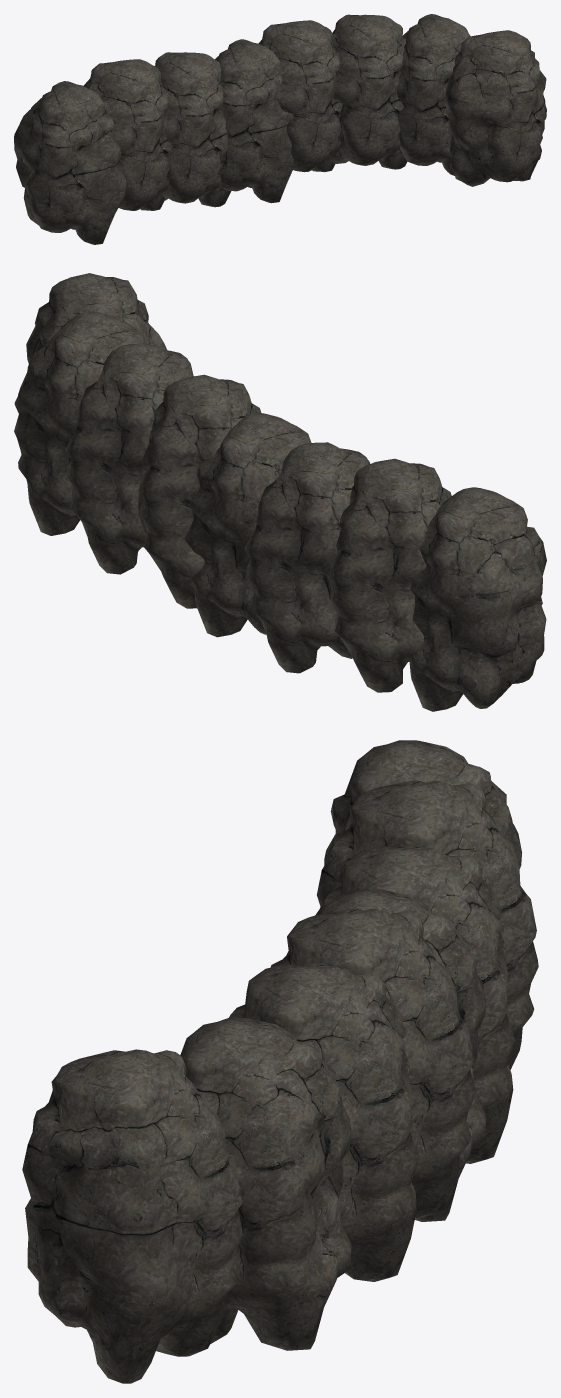
The model's file is TwinPeakRocksShape1.dae.
3 views of the same model, one above another, from view 1: azimuth 30°, elevation 25°; view 2: azimuth 150°, elevation 25°; view 3: azimuth 270°, elevation 25° (orthographic). The views are drawn at different scales.
Parts seen in each view (by area): view 1: TwinPeakRocks1; view 2: TwinPeakRocks1; view 3: TwinPeakRocks1.
Part boxes in pixels (box(x1,y1,x2,y2)): TwinPeakRocks1: box(14, 14, 546, 244); TwinPeakRocks1: box(14, 273, 546, 711); TwinPeakRocks1: box(22, 740, 538, 1383).
Size of the model in its own units: 188 by 69.67 by 93.32.
